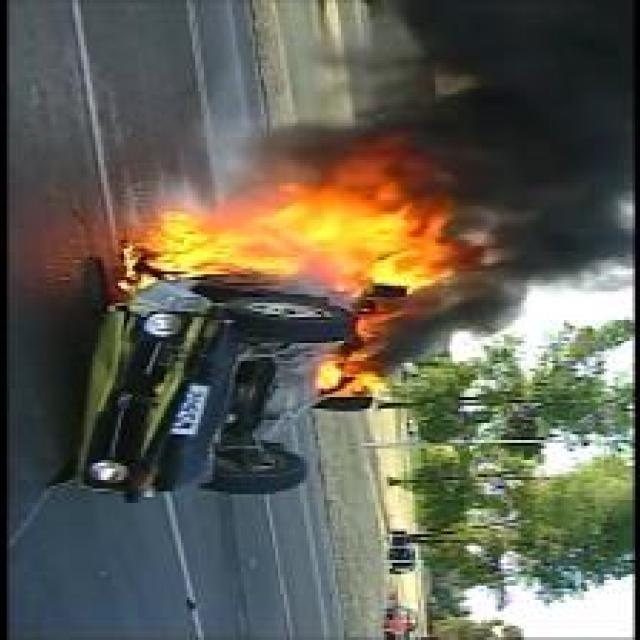Fire: (117, 143, 454, 297), (314, 352, 388, 399), (357, 308, 414, 342)
